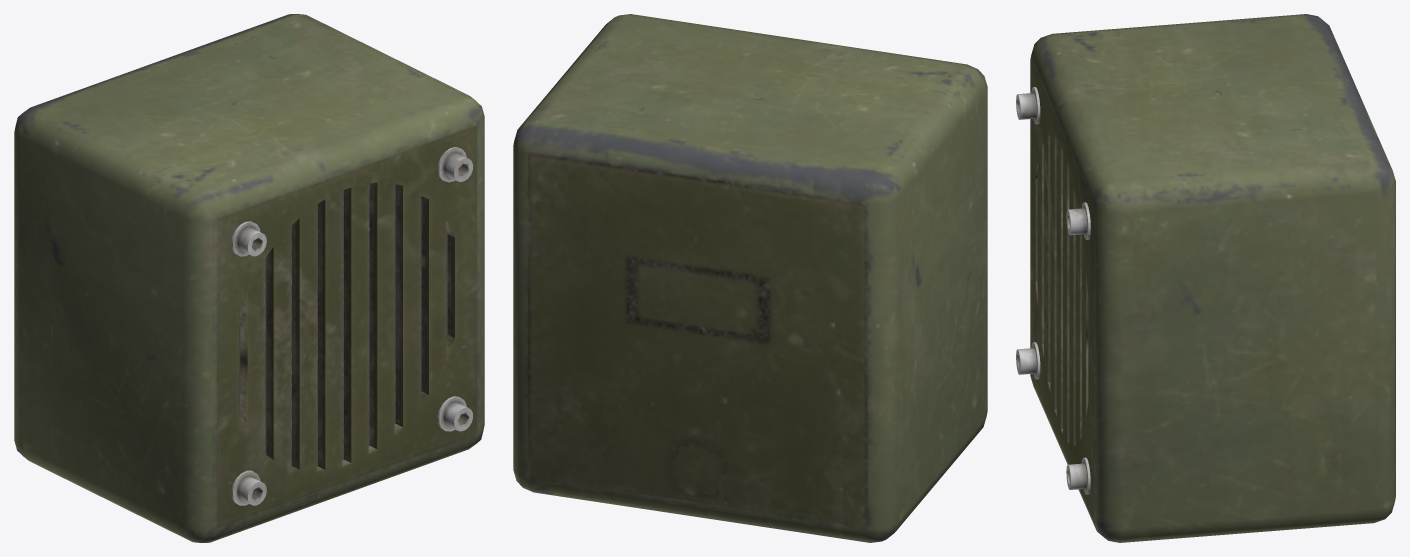
Rendered from radar_base.glb.
The picture shows the model from 3 angles, left to right: view 1: azimuth 30°, elevation 25°; view 2: azimuth 150°, elevation 25°; view 3: azimuth 270°, elevation 25°; orthographic projection. The views are drawn at different scales.
Parts seen in each view (by area): view 1: vintage_radio_transceiver_speaker; view 2: vintage_radio_transceiver_speaker; view 3: vintage_radio_transceiver_speaker.
Part boxes in pixels (box(x1,y1,x2,y2)): vintage_radio_transceiver_speaker: box(14, 14, 484, 542); vintage_radio_transceiver_speaker: box(513, 14, 987, 542); vintage_radio_transceiver_speaker: box(1016, 14, 1395, 542).
Size of the model in its own units: 0.0743 by 0.0674 by 0.0645.
1 material, 1 textured.
